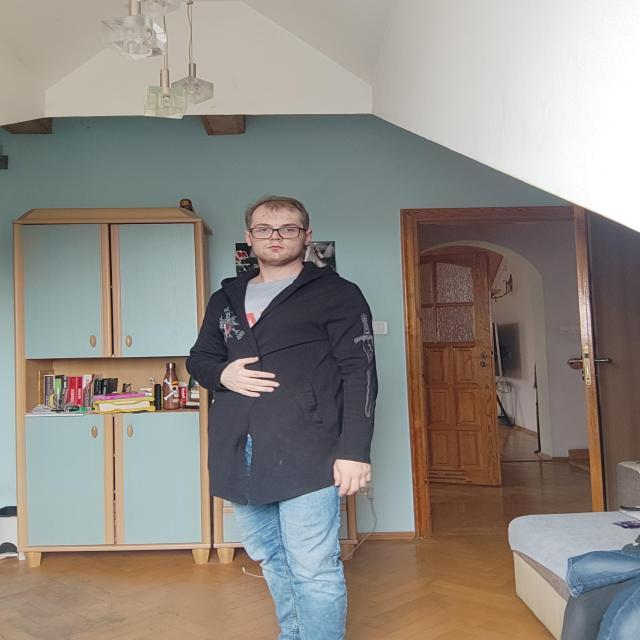pants: (230, 435, 348, 640)
sweater: (184, 266, 378, 504)
